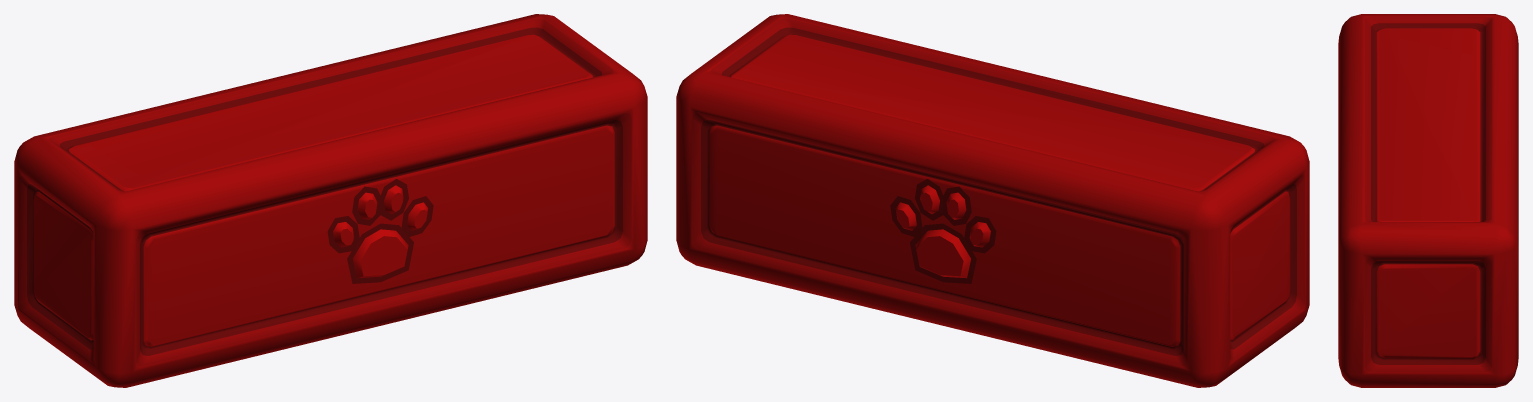
The model's file is kup3.glb.
3 renders of one model, left to right at view 1: azimuth 30°, elevation 25°; view 2: azimuth 150°, elevation 25°; view 3: azimuth 270°, elevation 25°, orthographic. The views are drawn at different scales.
Visible parts, largest first — view 1: kup3; view 2: kup3; view 3: kup3.
Boxes of the visible parts, <box> form: kup3: <box>14,14,647,387</box>; kup3: <box>676,14,1309,387</box>; kup3: <box>1338,14,1518,387</box>.
Bounding box in the file's own units: 4.63 × 1.55 × 1.55.
